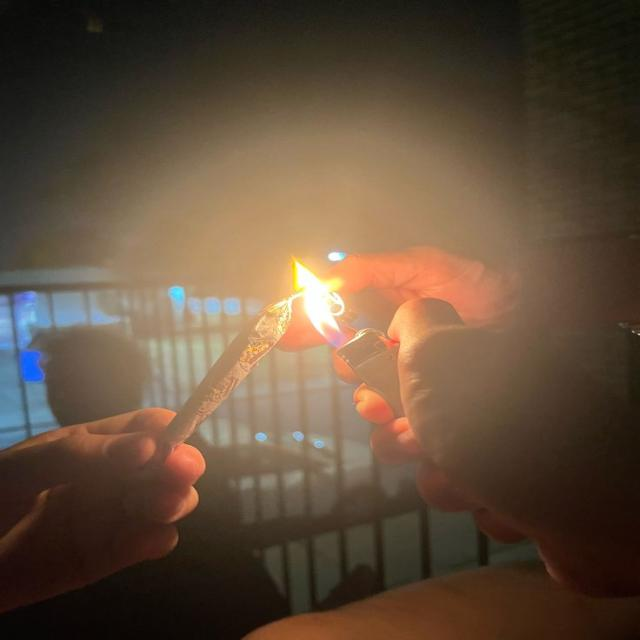fire: (291, 258, 345, 347)
